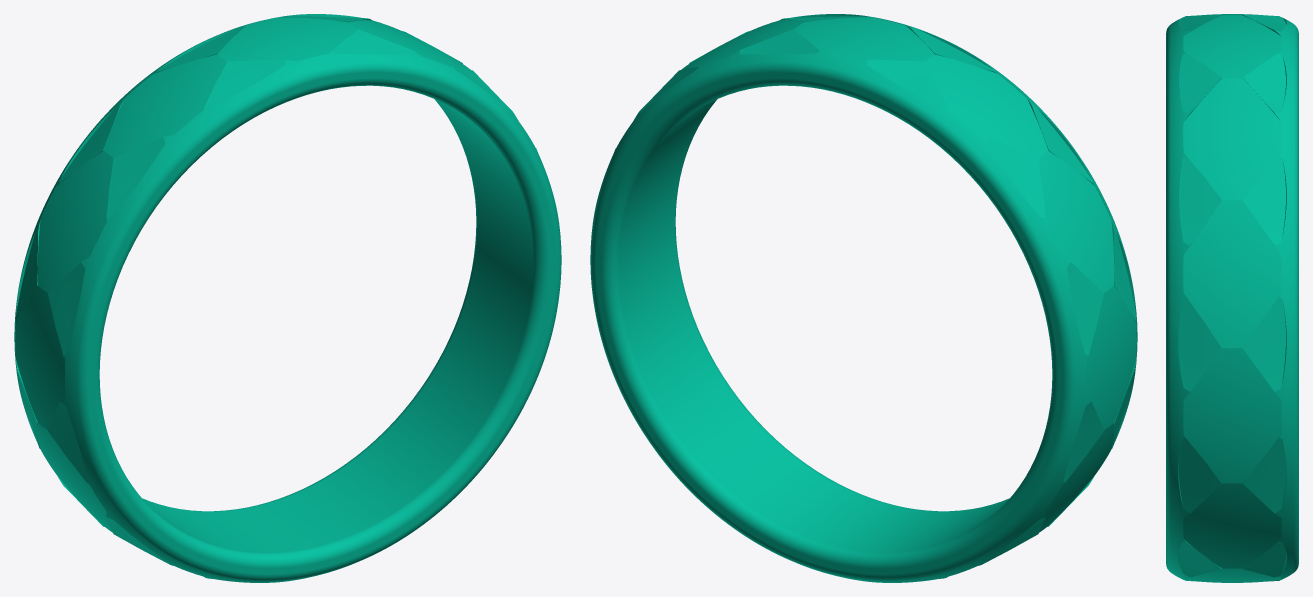
The picture shows the model from 3 angles, left to right: view 1: azimuth 30°, elevation 25°; view 2: azimuth 150°, elevation 25°; view 3: azimuth 270°, elevation 25°; orthographic projection.
Parts seen in each view (by area): view 1: contemporary wedding band(render).3dm; view 2: contemporary wedding band(render).3dm; view 3: contemporary wedding band(render).3dm.
Part boxes in pixels (x1=…): contemporary wedding band(render).3dm: x1=14, y1=14, x2=561, y2=582; contemporary wedding band(render).3dm: x1=590, y1=14, x2=1137, y2=582; contemporary wedding band(render).3dm: x1=1166, y1=14, x2=1298, y2=582.
Size of the model in its own units: 2.79 by 2.79 by 0.6534.
